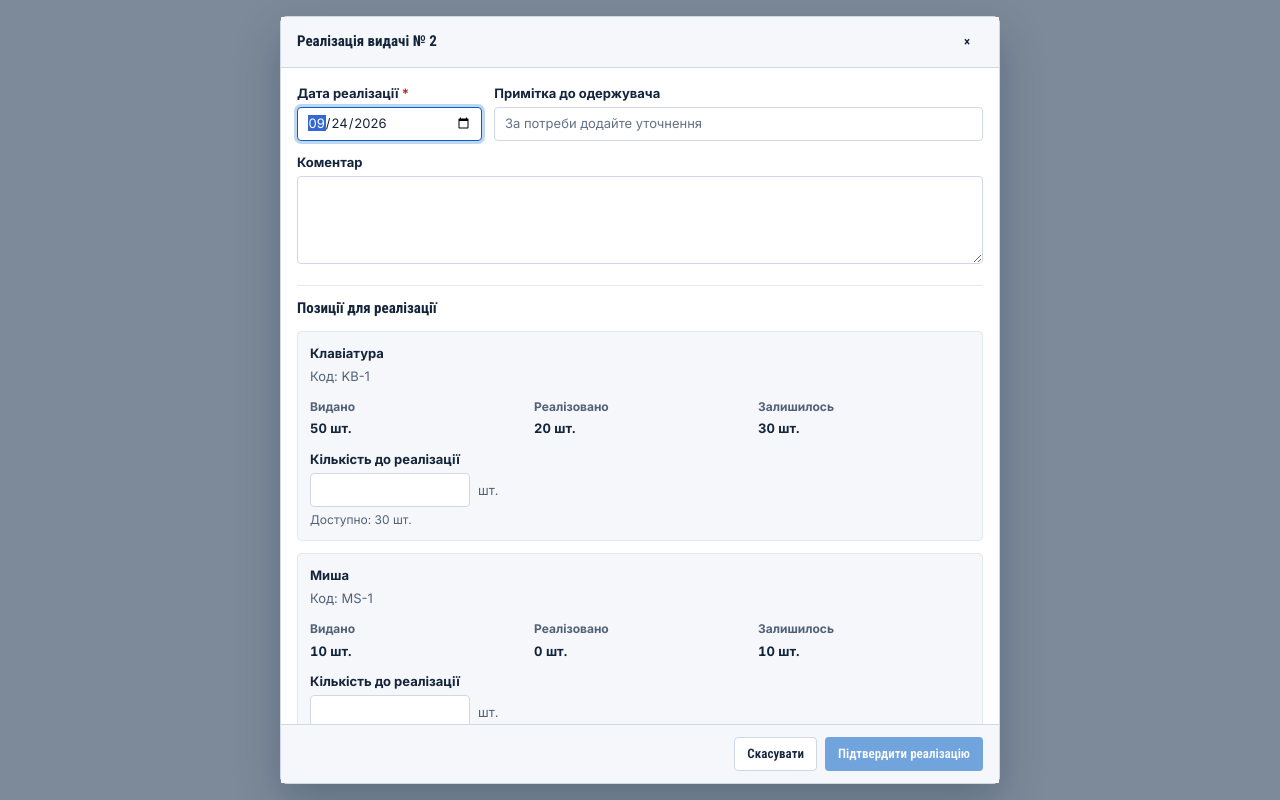
it: IssueRealizationFormModal › keeps the modal open and blocks a quantity above available
Type "31" into the number field labelled "Кількість до реалізації" below "50" at [390, 490], box [310,473,470,507]
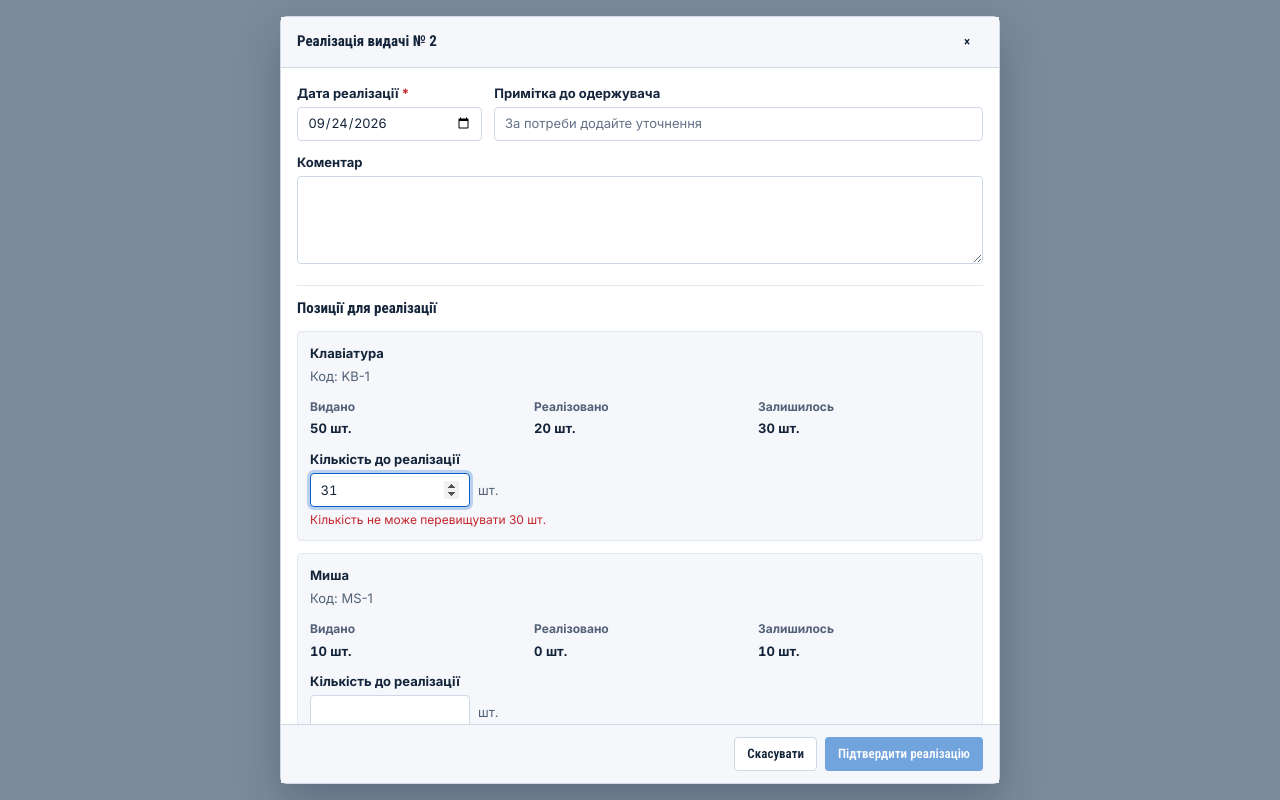
Check: the button "Підтвердити реалізацію" is disabled, box [825,737,983,771]
Check: the text "Кількість не може перевищувати 30 шт." is shown, box [310,511,546,528]
